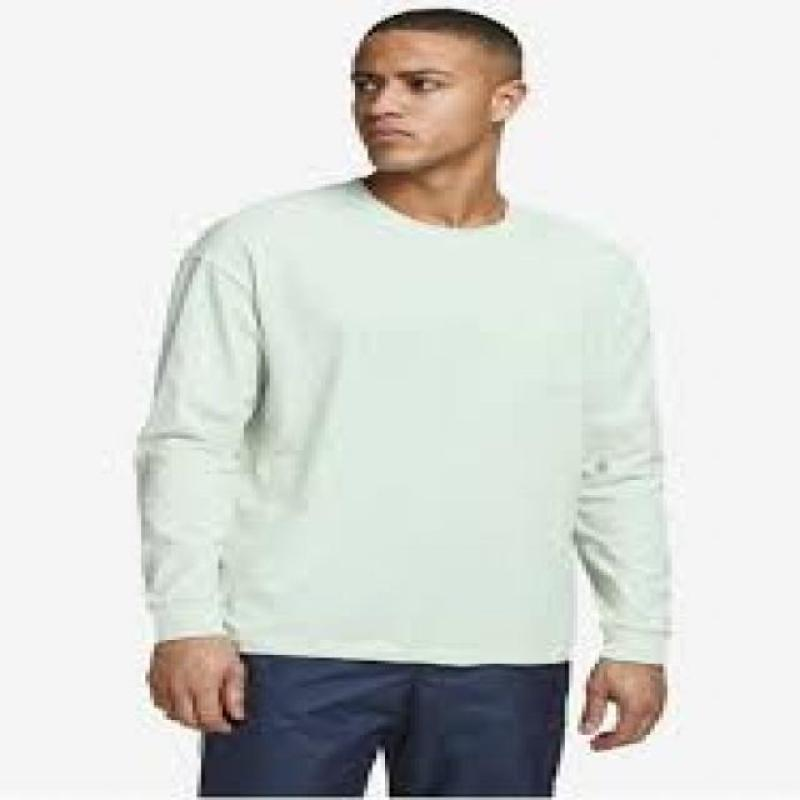sweater: (132, 174, 677, 671)
trousers: (199, 652, 572, 800)
